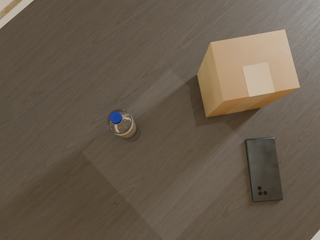bottle: (107, 109, 137, 138)
box: (197, 30, 300, 117)
phone: (246, 137, 283, 202)
